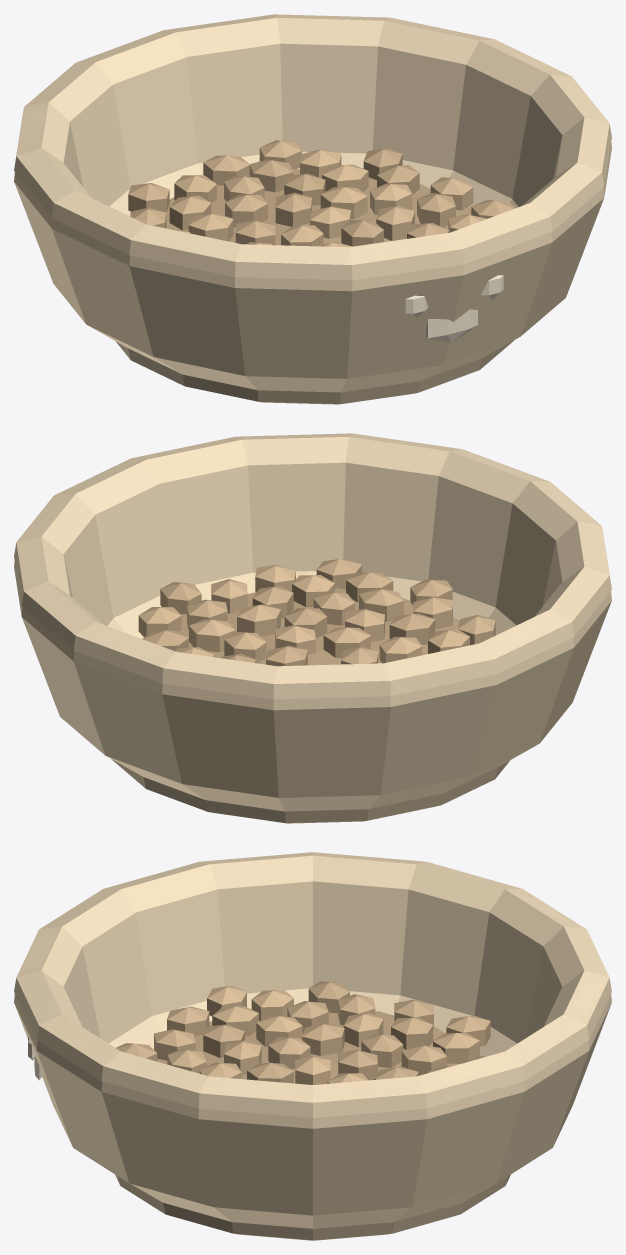
The model's file is crafted-cat-food-3-1.glb.
3 renders of one model, top to bottom at view 1: azimuth 30°, elevation 25°; view 2: azimuth 150°, elevation 25°; view 3: azimuth 270°, elevation 25°, orthographic.
Visible parts, largest first — view 1: ceramic-bowl, glazed-rim, foot-ring, ration-volume, ration-granule-2, paw-pad, ration-granule-21, ration-granule-7, ration-granule-5, ration-granule-8, ration-granule-41, ration-granule-36 (+19 smaller); view 2: ceramic-bowl, glazed-rim, foot-ring, ration-volume, ration-granule-8, ration-granule-13, ration-granule-14, ration-granule-19, ration-granule-1, ration-granule-34, ration-granule-5, ration-granule-11 (+19 smaller); view 3: ceramic-bowl, glazed-rim, foot-ring, ration-volume, ration-granule-4, ration-granule-28, ration-granule-20, ration-granule-9, ration-granule-7, ration-granule-15, ration-granule-1, ration-granule-35 (+17 smaller).
Boxes of the visible parts, left/top/right/bottom form: ceramic-bowl: left=14, top=14, right=611, bottom=392; glazed-rim: left=14, top=14, right=611, bottom=280; foot-ring: left=116, top=340, right=514, bottom=404; ration-volume: left=166, top=169, right=471, bottom=245; ration-granule-2: left=275, top=192, right=311, bottom=226; paw-pad: left=426, top=309, right=477, bottom=343; ration-granule-21: left=417, top=193, right=455, bottom=227; ration-granule-7: left=225, top=194, right=267, bottom=227; ration-granule-5: left=320, top=187, right=367, bottom=218; ration-granule-8: left=376, top=205, right=414, bottom=240; ration-granule-41: left=128, top=183, right=169, bottom=212; ration-granule-36: left=203, top=155, right=249, bottom=185; ceramic-bowl: left=14, top=433, right=611, bottom=811; glazed-rim: left=14, top=433, right=611, bottom=699; foot-ring: left=111, top=759, right=509, bottom=823; ration-volume: left=178, top=588, right=459, bottom=665; ration-granule-8: left=237, top=604, right=280, bottom=636; ration-granule-13: left=189, top=619, right=235, bottom=652; ration-granule-14: left=389, top=613, right=435, bottom=644; ration-granule-19: left=359, top=588, right=403, bottom=621; ration-granule-1: left=323, top=627, right=370, bottom=657; ration-granule-34: left=138, top=607, right=181, bottom=637; ration-granule-5: left=224, top=631, right=266, bottom=663; ration-granule-11: left=313, top=591, right=354, bottom=625; ceramic-bowl: left=14, top=852, right=611, bottom=1228; glazed-rim: left=14, top=852, right=611, bottom=1117; foot-ring: left=115, top=1174, right=510, bottom=1240; ration-volume: left=157, top=1011, right=480, bottom=1083; ration-granule-4: left=302, top=1023, right=344, bottom=1055; ration-granule-28: left=433, top=1033, right=479, bottom=1063; ration-granule-20: left=391, top=1017, right=433, bottom=1049; ration-granule-9: left=256, top=1016, right=302, bottom=1046; ration-granule-7: left=361, top=1033, right=403, bottom=1067; ration-granule-15: left=401, top=1045, right=446, bottom=1075; ration-granule-1: left=268, top=1037, right=310, bottom=1068; ration-granule-35: left=167, top=1006, right=209, bottom=1036.
Bounding box in the file's own units: 0.76 × 0.265 × 0.76.
